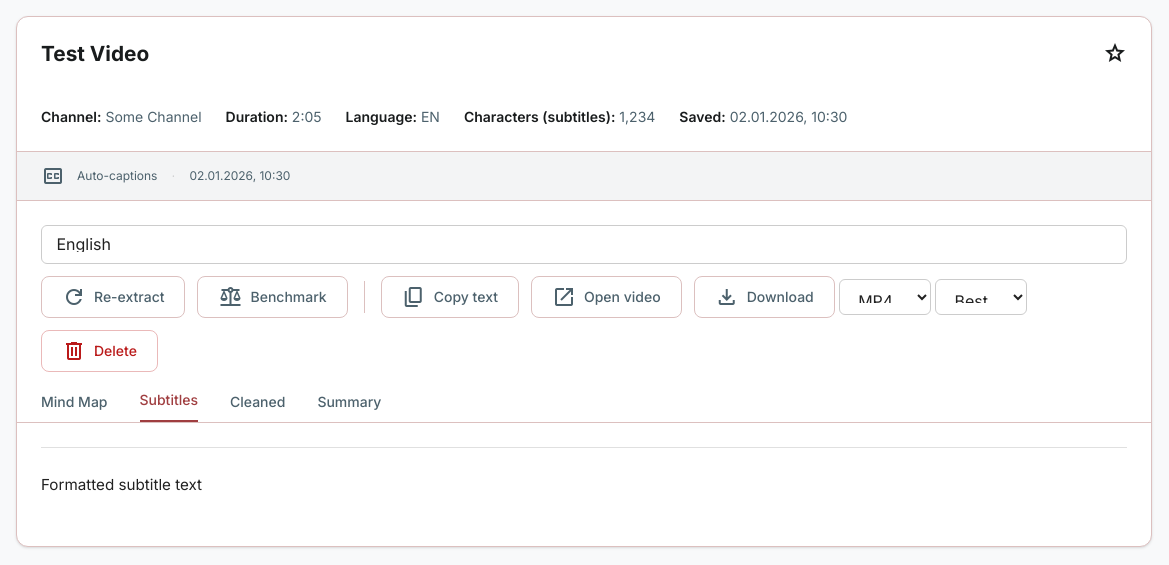
Test: ResultPage › Cleaned tab: done shows cleaned text and Re-run button
The image size is (1169, 565).
Expected: the heading "Test Video" is shown, 41,41 -> 149,66
Click the button "Cleaned" at (258, 408), box 230,394 -> 285,422
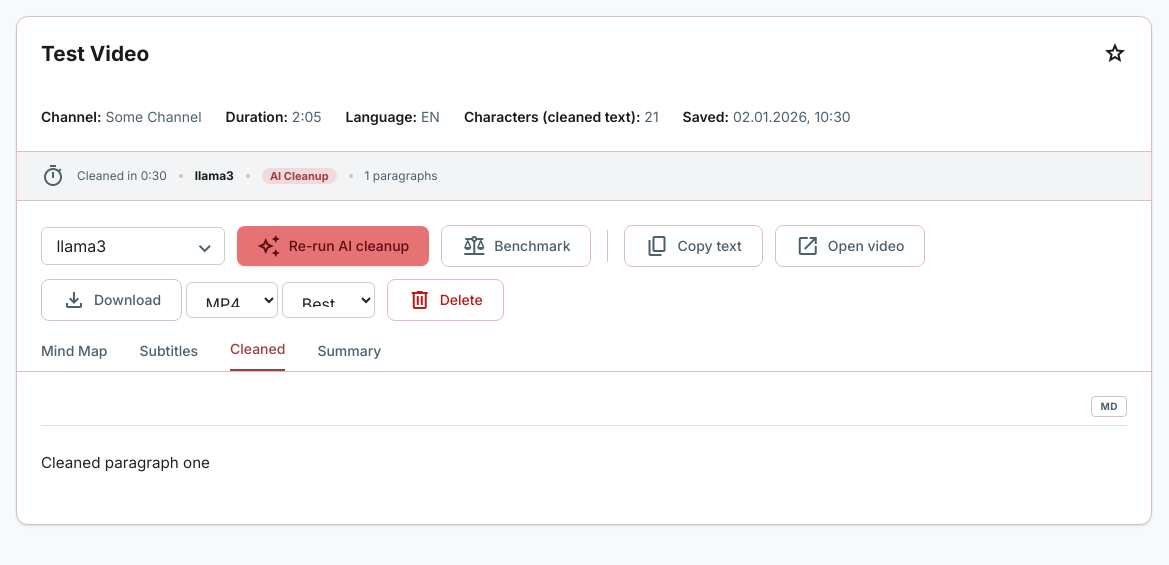
Result: the text "Cleaned paragraph one" is shown at 41,453 -> 210,472
Result: the button "Re-run AI cleanup" is shown at 237,226 -> 429,266
Result: the text "Cleaned in 0:30 llama3 AI Cleanup 1 paragraphs" is shown at 17,152 -> 1151,201
